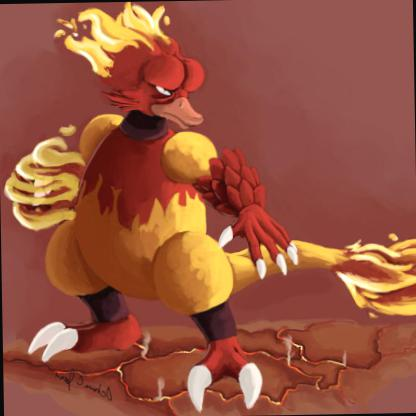Magmar: (0, 10, 350, 415)
